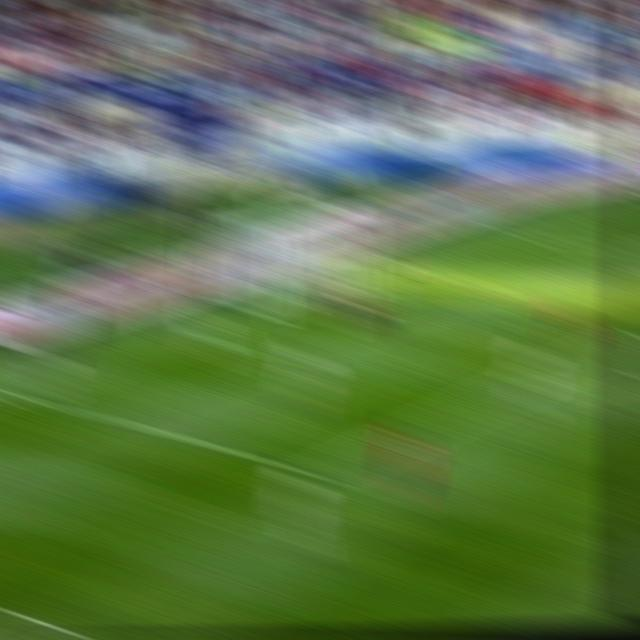bigarea_bottom_inner: (300, 457, 343, 492)
bigarea_bottom_outter: (0, 377, 34, 408)
bigarea_top_outter: (495, 221, 535, 246)
bottom_arc_area_intersection: (494, 375, 535, 403)
corner: (606, 185, 640, 208)
smallarea_bottom_inner: (258, 340, 299, 369)
smallarea_bottom_outter: (170, 323, 214, 349)
smallarea_top_inner: (466, 267, 512, 295)
smallarea_top_outter: (394, 253, 434, 279)
